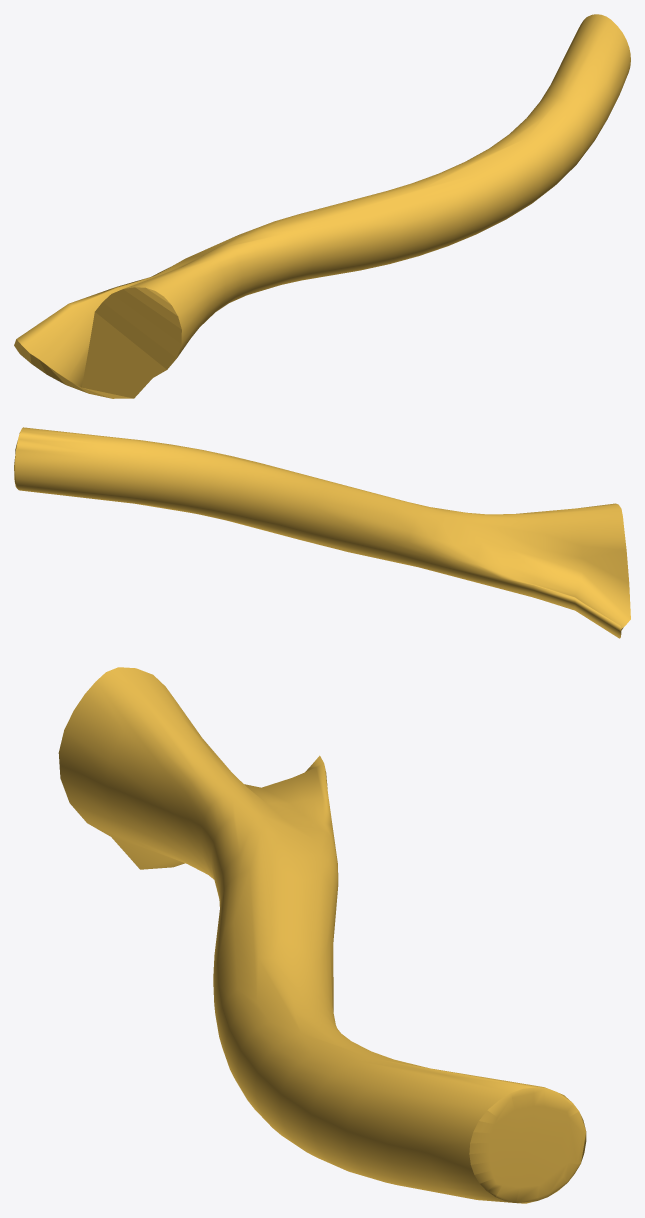
Rendered from nervoso-cochlear-nerve.glb.
The picture shows the model from 3 angles, top to bottom: view 1: azimuth 30°, elevation 25°; view 2: azimuth 150°, elevation 25°; view 3: azimuth 270°, elevation 25°; orthographic projection. The views are drawn at different scales.
Parts seen in each view (by area): view 1: Cochlear nerve; view 2: Cochlear nerve; view 3: Cochlear nerve.
Part boxes in pixels (bbox=[...]): Cochlear nerve: bbox=[14, 14, 630, 398]; Cochlear nerve: bbox=[14, 427, 630, 638]; Cochlear nerve: bbox=[58, 667, 586, 1203].
Size of the model in its own units: 0.0217 by 0.00504 by 0.00891.
